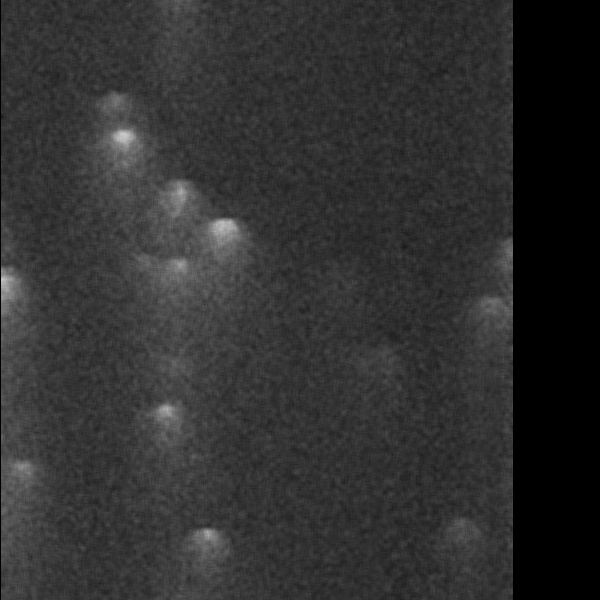spark: (44, 402, 106, 487), (93, 260, 188, 310), (100, 200, 183, 249), (37, 80, 114, 123), (10, 196, 91, 231)
